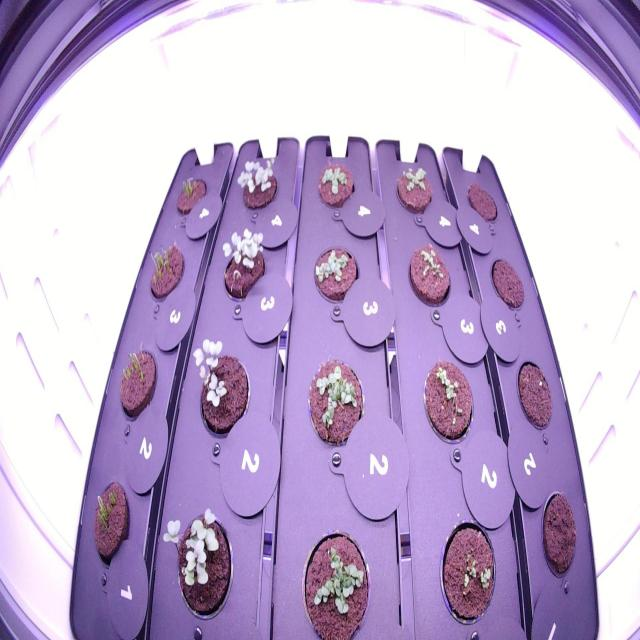germination: (156, 491, 238, 630), (296, 520, 374, 639), (184, 331, 258, 454), (436, 513, 500, 629), (301, 351, 368, 459), (418, 348, 479, 454), (83, 472, 135, 576), (215, 218, 273, 310), (112, 332, 161, 431), (306, 238, 364, 309), (405, 238, 455, 314), (231, 148, 283, 218), (141, 233, 189, 305), (388, 154, 438, 222), (311, 156, 359, 214), (170, 169, 214, 225)
pod: (537, 480, 585, 588), (512, 351, 558, 436), (486, 249, 528, 316), (463, 175, 503, 227)
